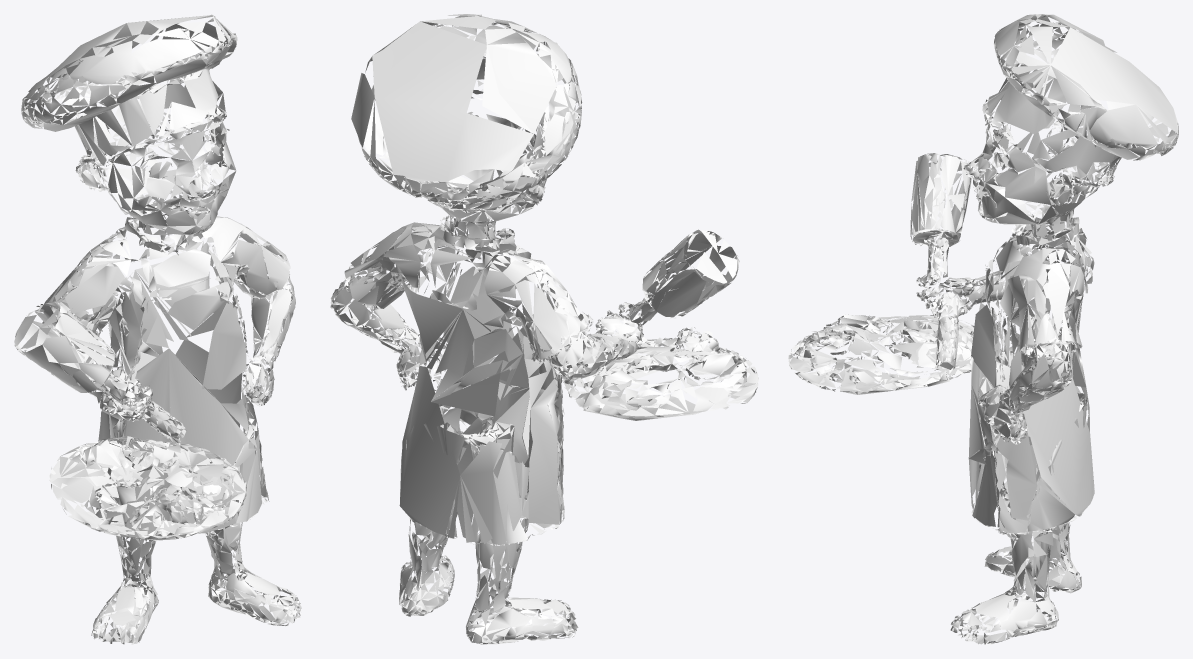
The model's file is beach-maggi-chef.glb.
3 renders of one model, left to right at view 1: azimuth 30°, elevation 25°; view 2: azimuth 150°, elevation 25°; view 3: azimuth 270°, elevation 25°, orthographic. The views are drawn at different scales.
Visible parts, largest first — view 1: model; view 2: model; view 3: model.
Boxes of the visible parts, bbox=[...] form: model: bbox=[14, 14, 301, 644]; model: bbox=[330, 14, 759, 644]; model: bbox=[788, 14, 1178, 644].
Bounding box in the file's own units: 1.11 × 1.9 × 1.19.
Materials: 1 (1 with a texture image).
